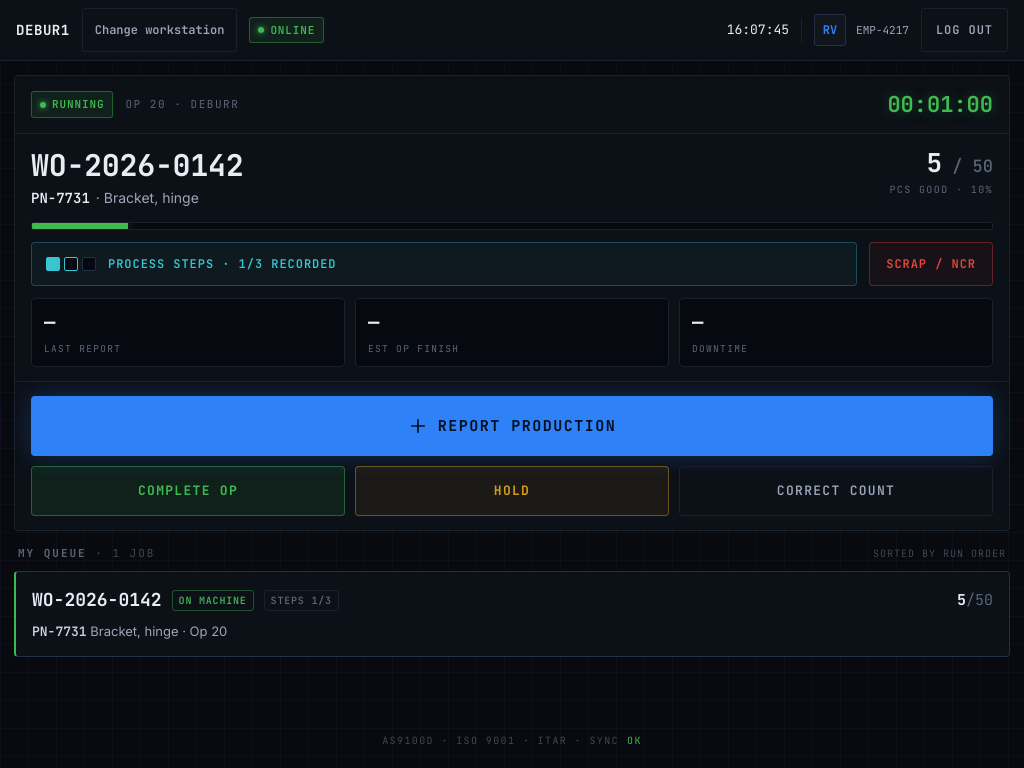
Test: OperatorKiosk process steps › opens the steps view from the active-job banner and renders typed rows with progress
The width and height of the screenshot is (1024, 768).
Click the button with test id "kiosk-active-steps" at coordinates (173, 264), box [31, 242, 857, 286]
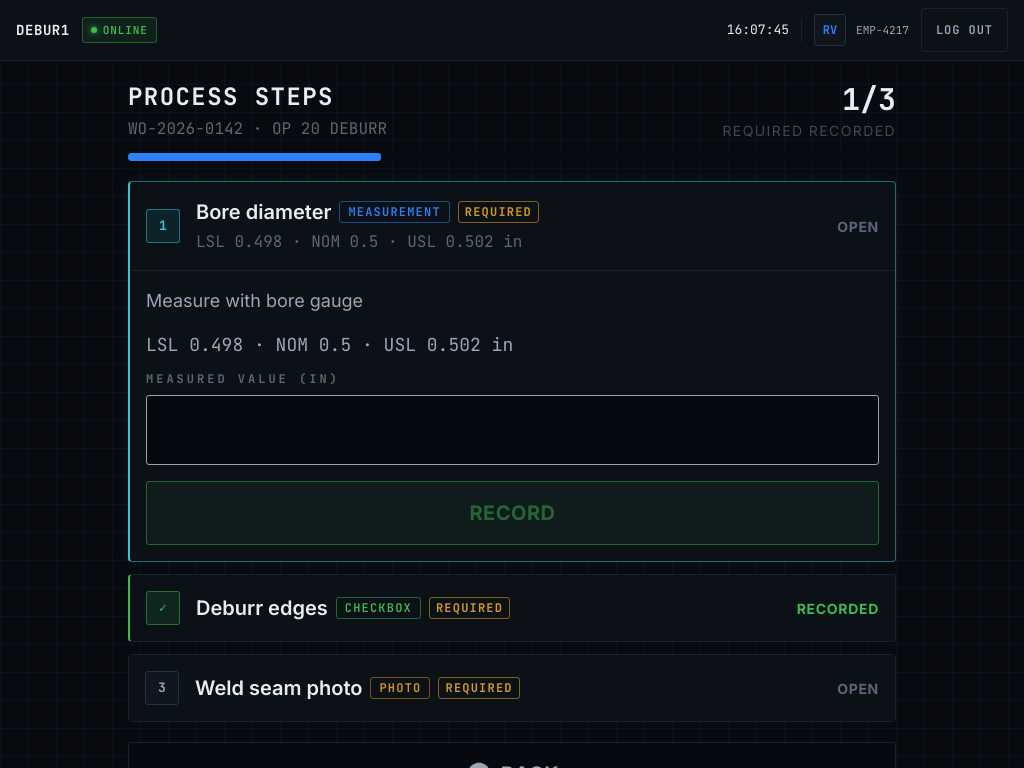
expect the text "Bore diameter" is shown: met, box [196, 198, 331, 226]
expect the text "Deburr edges" is shown: met, box [196, 594, 328, 622]
expect the text "Weld seam photo" is shown: met, box [195, 674, 362, 702]
